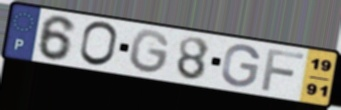6: (38, 14, 76, 63)
8: (175, 36, 211, 82)
F: (259, 47, 307, 93)
G: (128, 28, 172, 76), (219, 43, 262, 89)
O: (77, 20, 120, 68)
